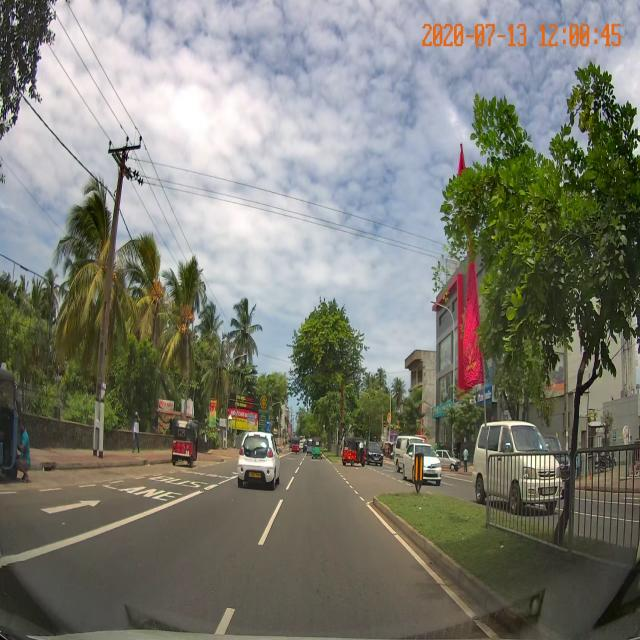BUS LANE: (102, 476, 209, 501)
Strelka vpered: (40, 500, 102, 514)
